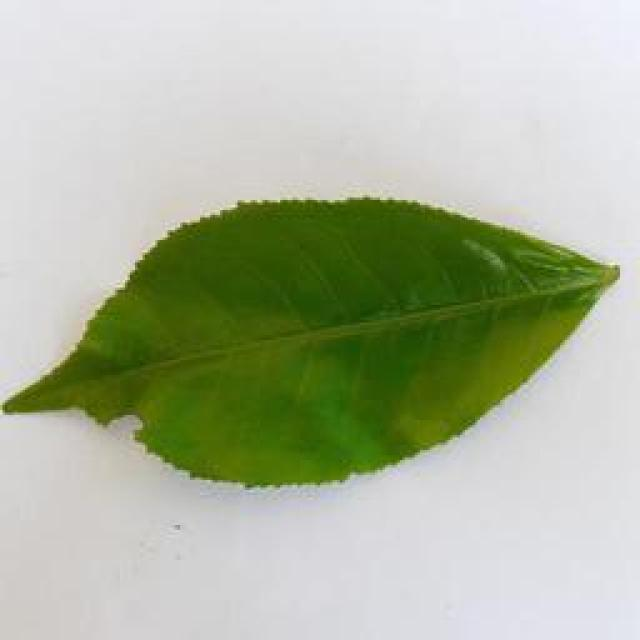Healthy: (0, 189, 640, 504)
